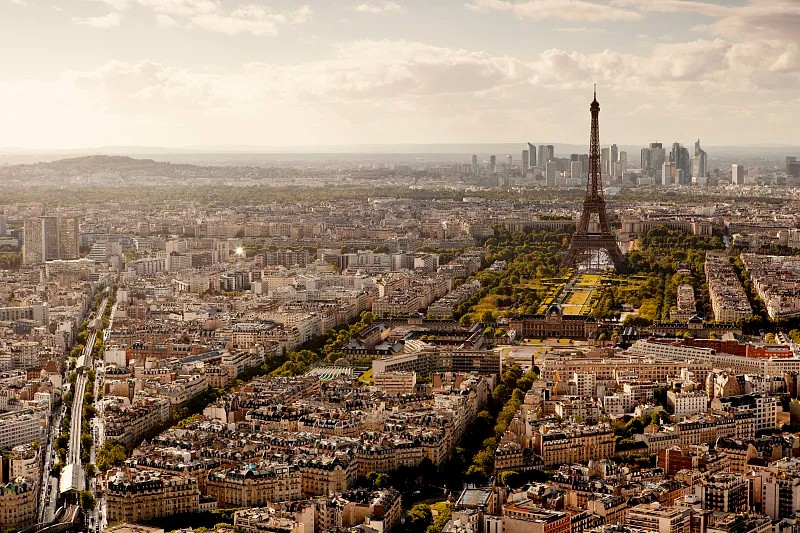Eiffel: (559, 84, 634, 275)
